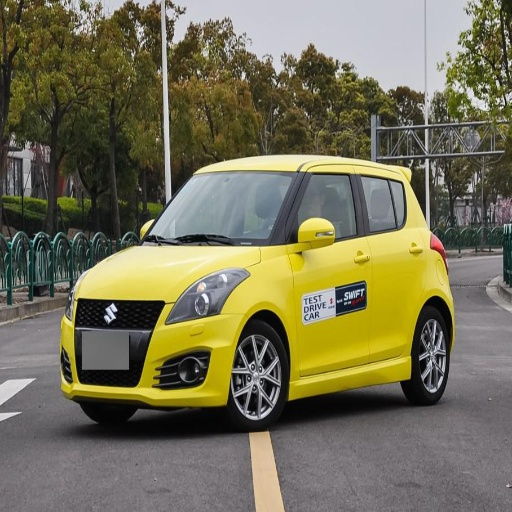front_bumper: (60, 296, 244, 408)
front_glass: (137, 174, 298, 242)
front_left_door: (287, 171, 370, 375)
